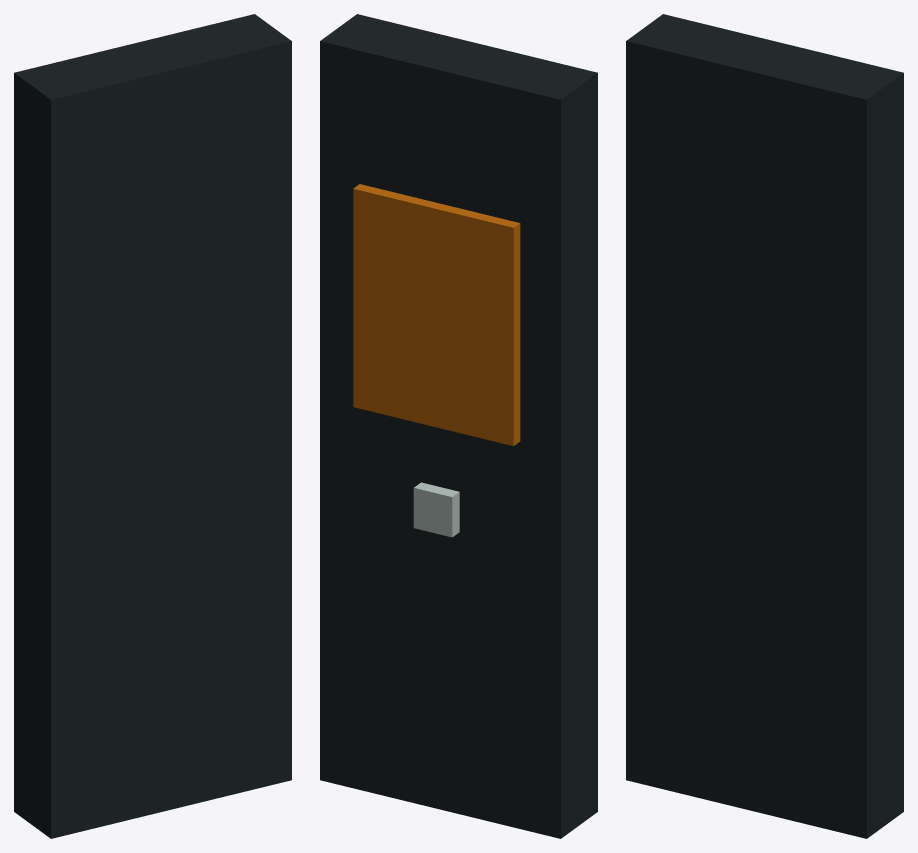
The model's file is Target.obj.
The picture shows the model from 3 angles, left to right: view 1: azimuth 30°, elevation 25°; view 2: azimuth 150°, elevation 25°; view 3: azimuth 330°, elevation 25°; orthographic projection.
Parts seen in each view (by area): view 1: steel; view 2: steel, yellow, white; view 3: steel.
Boxes of the visible parts, bbox=[...] form: steel: bbox=[14, 14, 291, 838]; steel: bbox=[320, 14, 597, 838]; yellow: bbox=[353, 184, 520, 446]; white: bbox=[413, 482, 459, 537]; steel: bbox=[626, 14, 903, 838].
Size of the model in its own units: 0.75 by 2.2 by 0.24.
